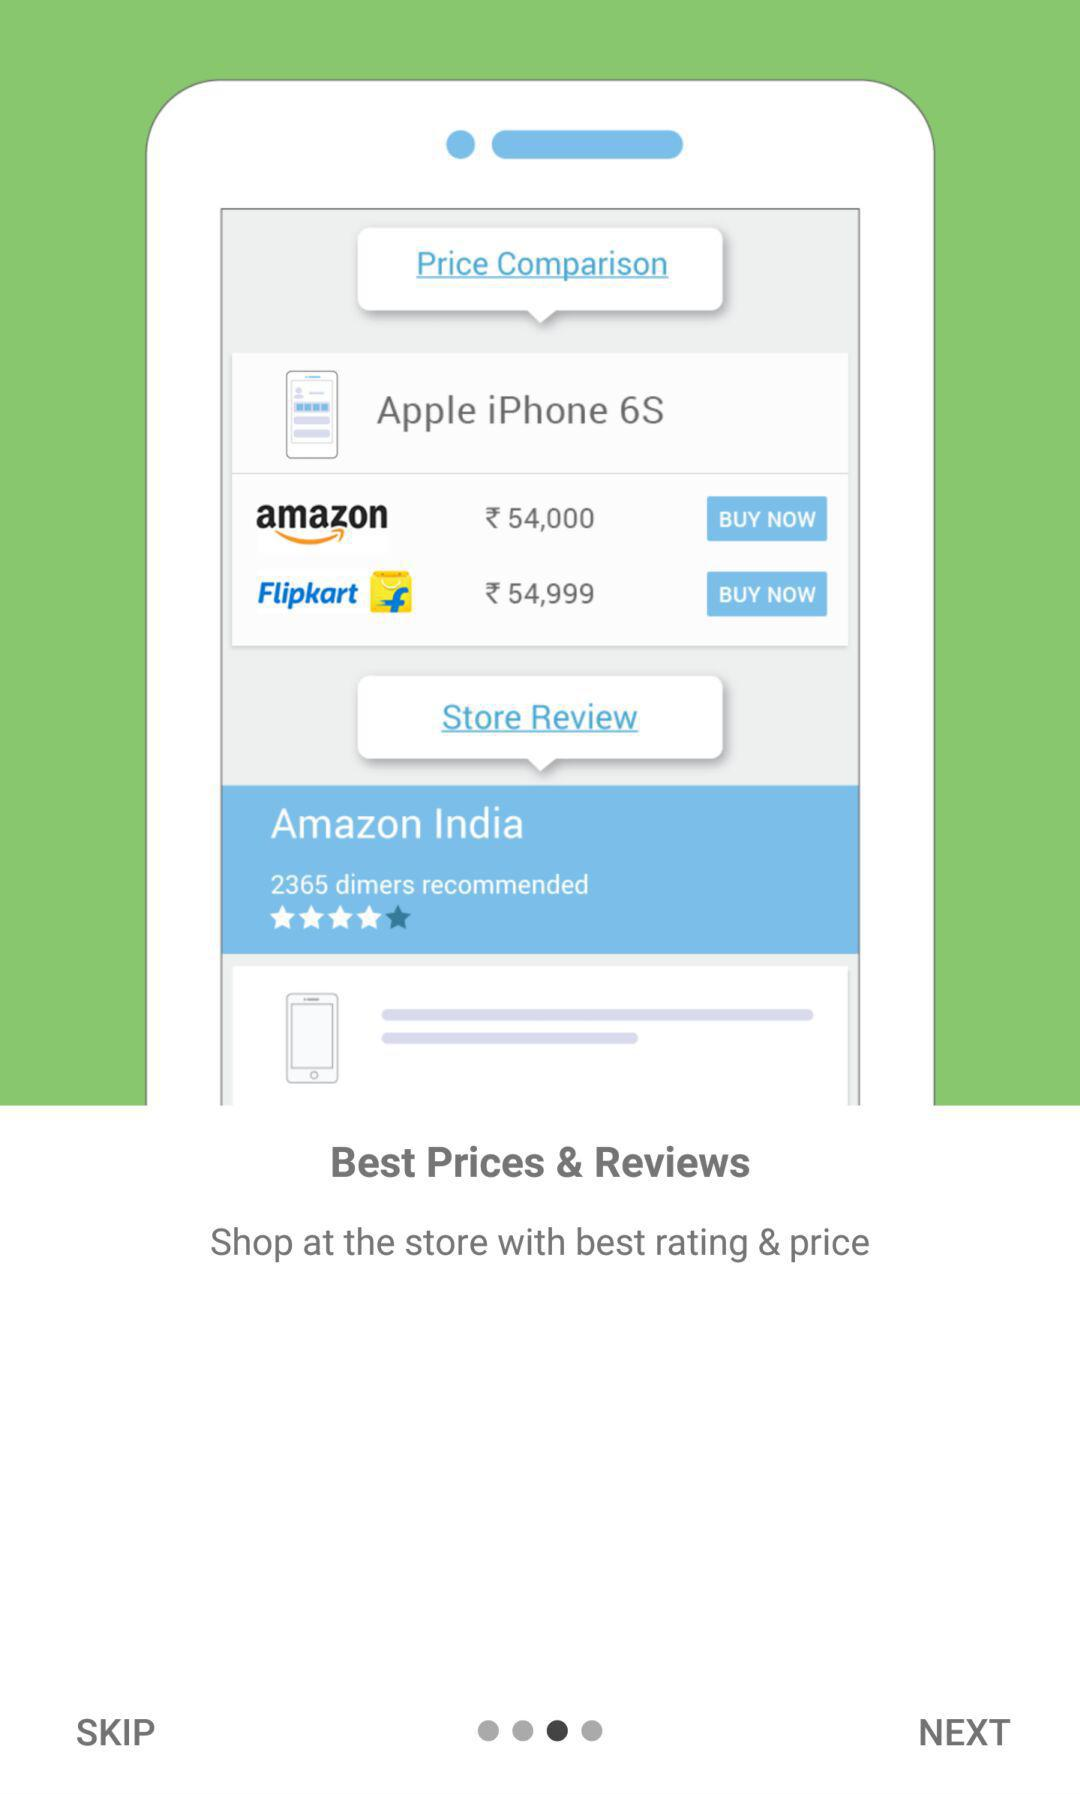Image: (145, 79, 937, 1106)
PageIndicator: (477, 1718, 603, 1741)
Text: (211, 1226, 870, 1263), (332, 1146, 749, 1179), (919, 1718, 1011, 1747), (77, 1718, 156, 1747)
